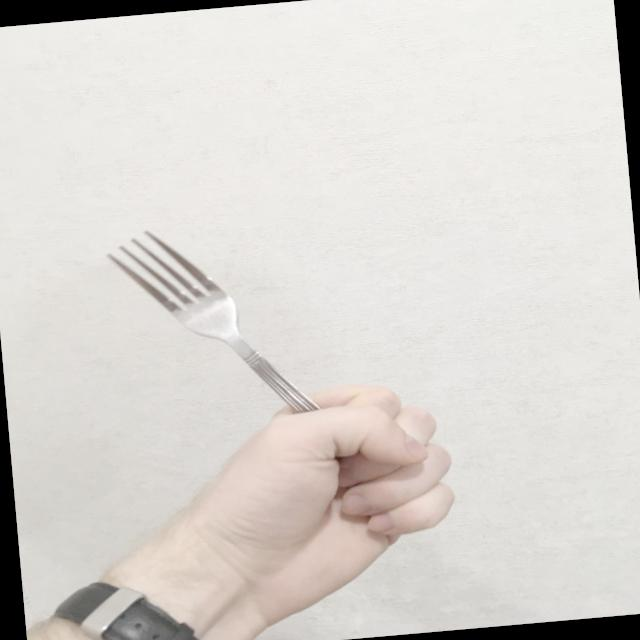fork: (103, 212, 374, 526)
